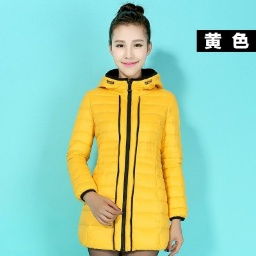face: (109, 4, 154, 77)
